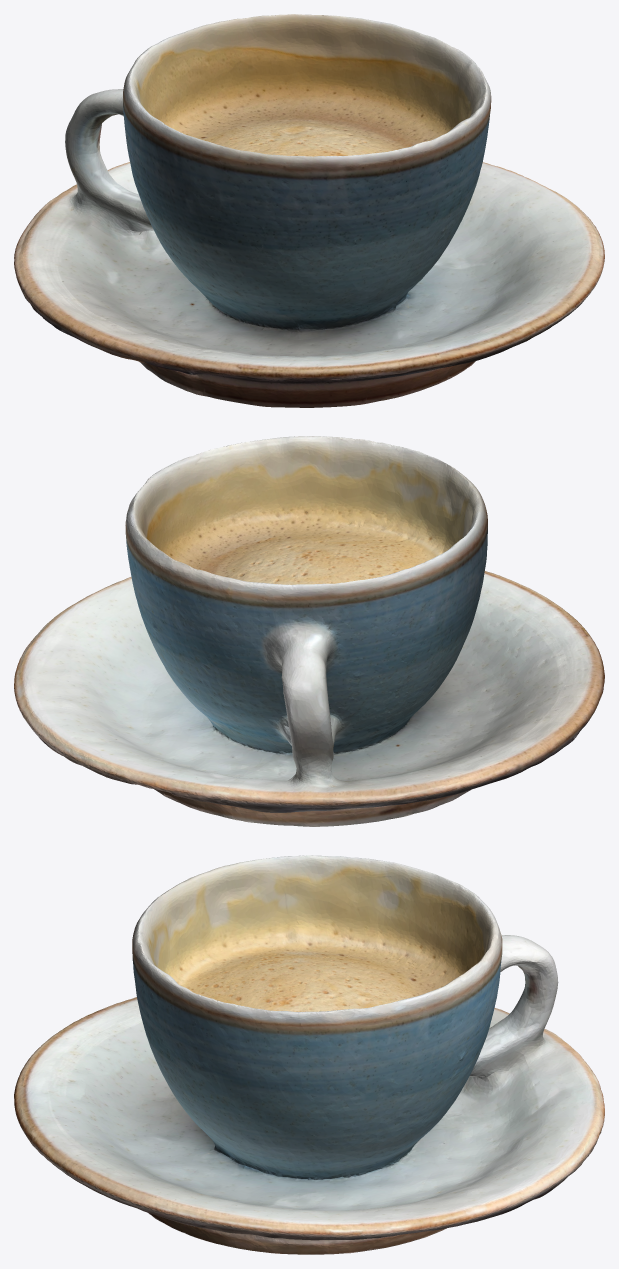
The model's file is coffee_cup.glb.
3 renders of one model, top to bottom at view 1: azimuth 30°, elevation 25°; view 2: azimuth 150°, elevation 25°; view 3: azimuth 270°, elevation 25°, orthographic.
Size of the model in its own units: 0.1798 by 0.0822 by 0.1776.
Materials: 1 (1 with a texture image).
